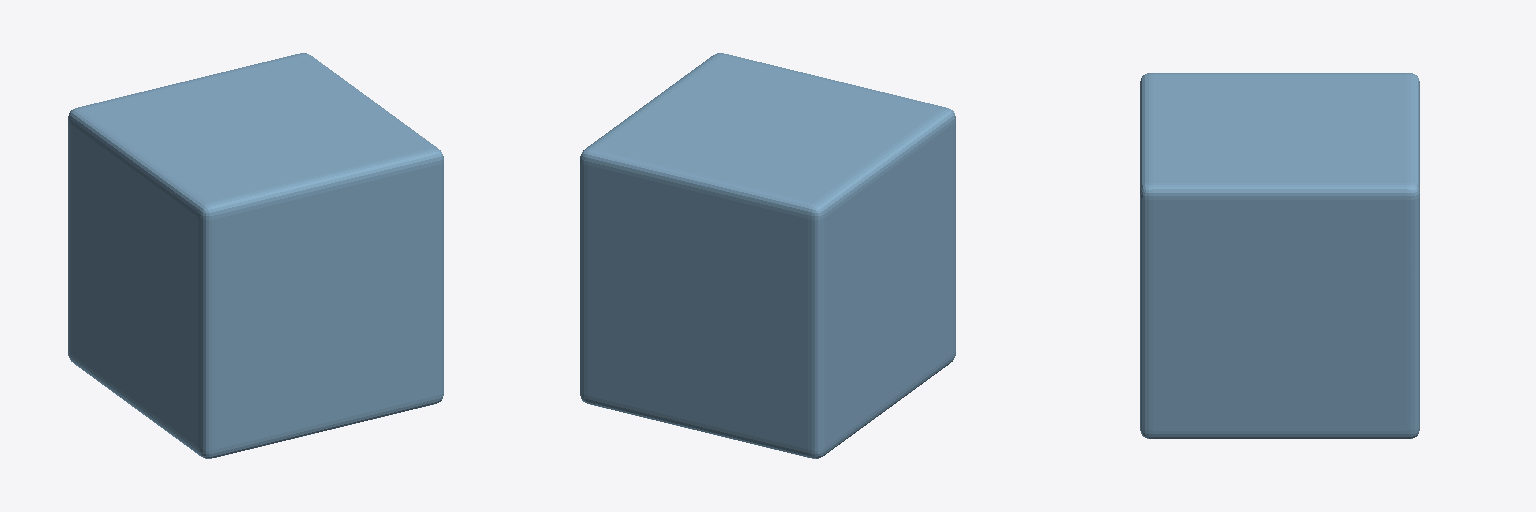
The model's file is icecube.obj.
The picture shows the model from 3 angles: view 1: azimuth 30°, elevation 25°; view 2: azimuth 150°, elevation 25°; view 3: azimuth 270°, elevation 25°; orthographic projection.
Visible parts, largest first — view 1: Cube; view 2: Cube; view 3: Cube.
Boxes of the visible parts, x1=… form: Cube: x1=68, y1=53, x2=443, y2=458; Cube: x1=580, y1=53, x2=955, y2=458; Cube: x1=1140, y1=73, x2=1419, y2=438.
Bounding box in the file's own units: 2 × 2 × 2.